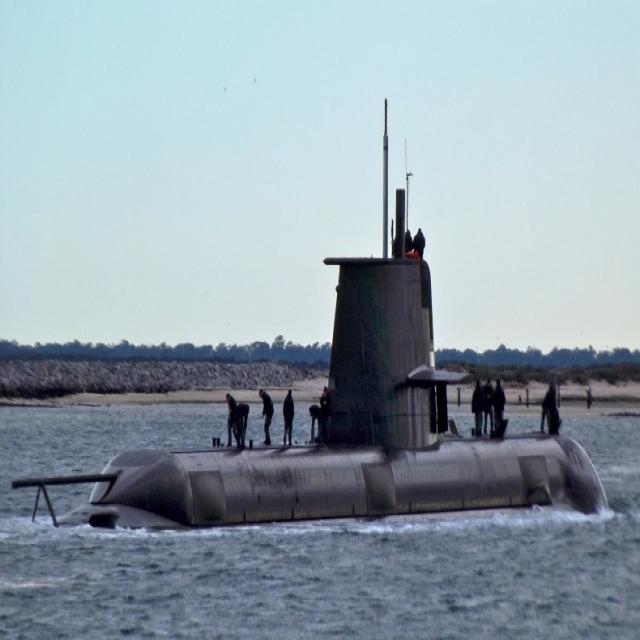submarine: (10, 103, 640, 524)
